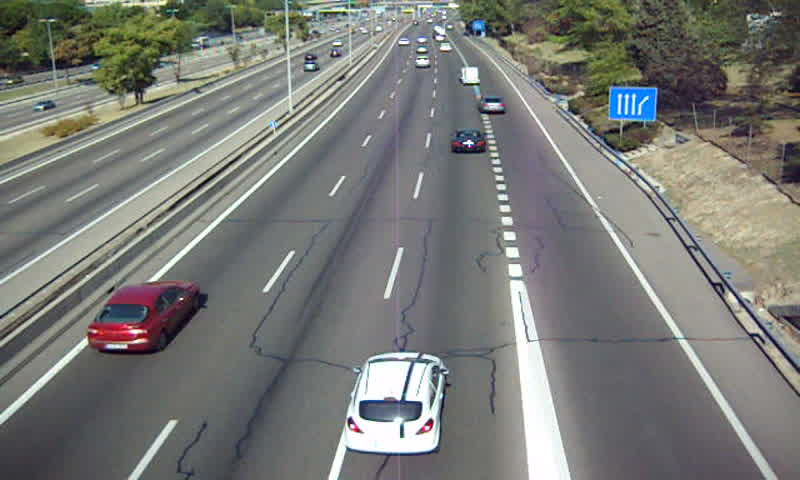car: (346, 353, 446, 454), (86, 282, 199, 352), (450, 128, 486, 154), (479, 97, 506, 115), (415, 55, 430, 67)
van: (461, 66, 479, 83)
